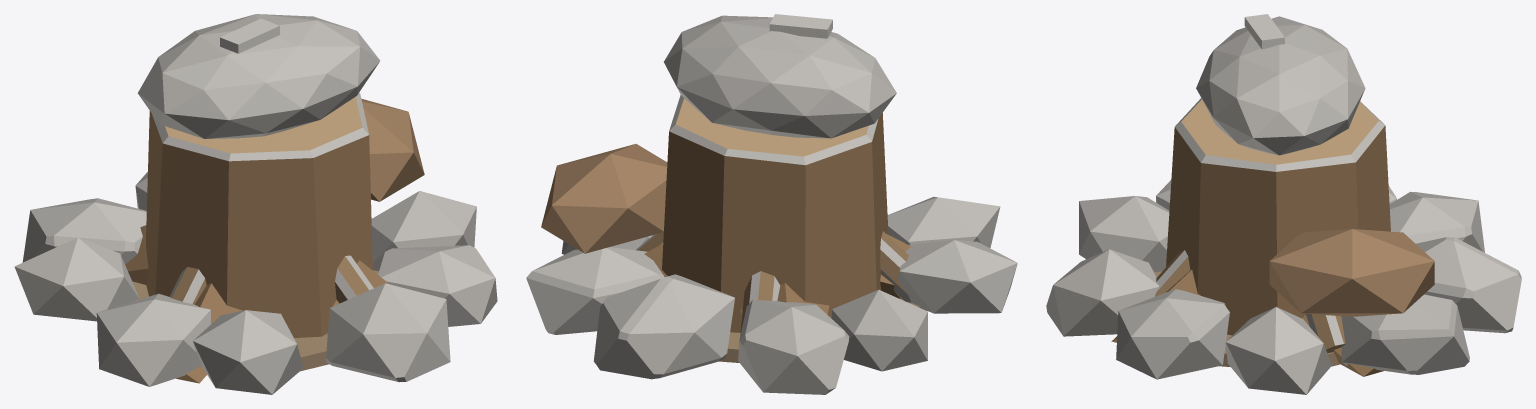
File: asset_forge_working.glb
The picture shows the model from 3 angles, left to right: view 1: azimuth 30°, elevation 25°; view 2: azimuth 150°, elevation 25°; view 3: azimuth 270°, elevation 25°; orthographic projection. The views are drawn at different scales.
Visible parts, largest first — view 1: asset_forge_working; view 2: asset_forge_working; view 3: asset_forge_working.
Part boxes in pixels (x1=…): asset_forge_working: x1=14, y1=14, x2=497, y2=394; asset_forge_working: x1=526, y1=14, x2=1017, y2=394; asset_forge_working: x1=1046, y1=14, x2=1521, y2=394.
Bounding box in the file's own units: 0.9336 × 0.62 × 0.9797.
